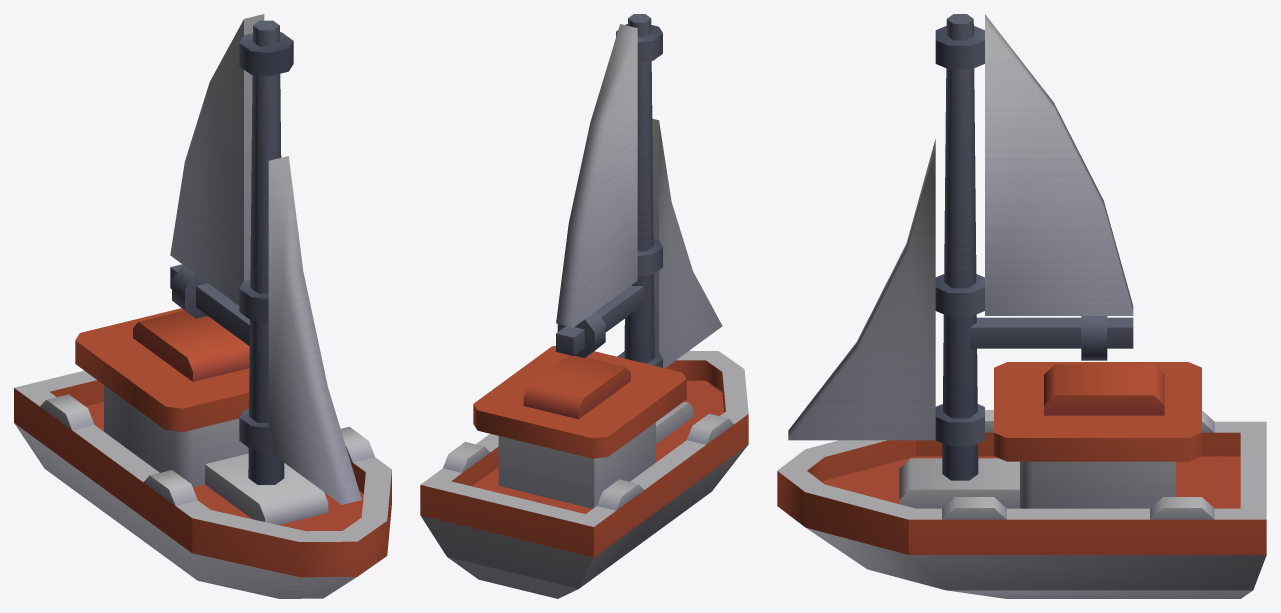
File: boat_sail_a.glb
The picture shows the model from 3 angles, left to right: view 1: azimuth 30°, elevation 25°; view 2: azimuth 150°, elevation 25°; view 3: azimuth 270°, elevation 25°; orthographic projection. The views are drawn at different scales.
Visible parts, largest first — view 1: boat-sail-a, sail; view 2: boat-sail-a, sail; view 3: boat-sail-a, sail.
Part boxes in pixels (x1,y1,x2,y2): boat-sail-a: (14, 308, 391, 598); sail: (170, 14, 361, 504); boat-sail-a: (420, 346, 748, 598); sail: (556, 14, 722, 368); boat-sail-a: (777, 362, 1266, 598); sail: (788, 14, 1133, 480).
Size of the model in its own units: 1.78 by 4.74 by 3.77.
1 material, 1 textured.
